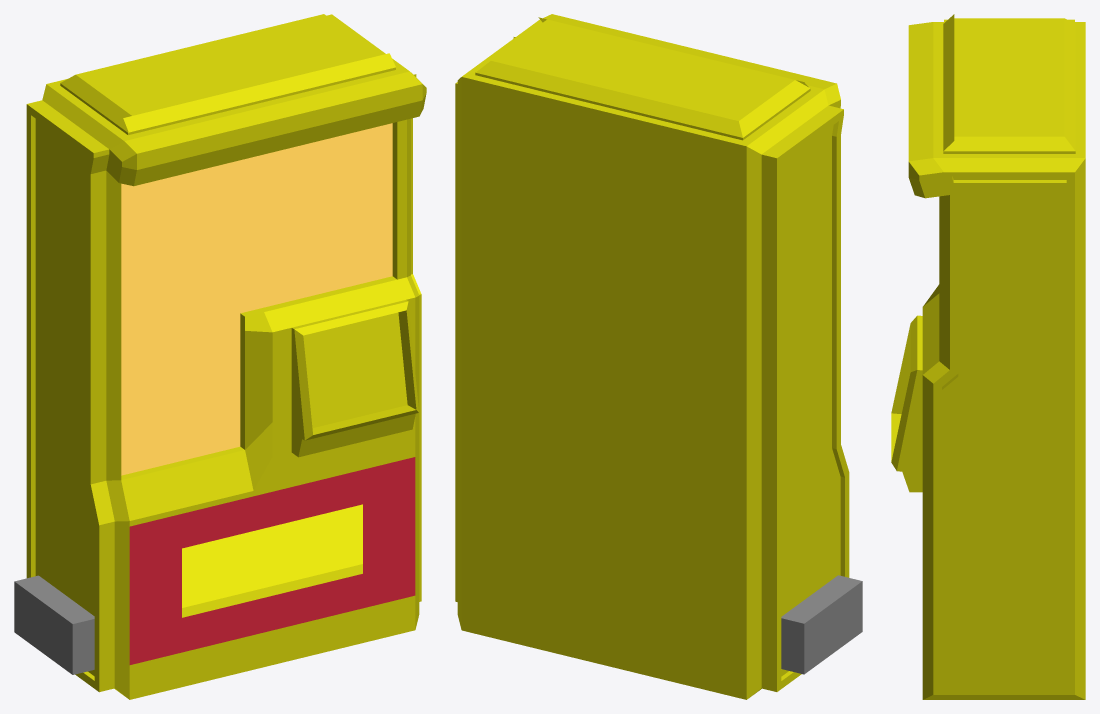
File: vendingMachine.glb
3 views of the same model, side by side, from view 1: azimuth 30°, elevation 25°; view 2: azimuth 150°, elevation 25°; view 3: azimuth 270°, elevation 25° (orthographic). The views are drawn at different scales.
Visible parts, largest first — view 1: vendingBody, screen; view 2: vendingBody; view 3: vendingBody.
Part boxes in pixels (left/top/right/bottom): vendingBody: left=14, top=14, right=426, bottom=699; screen: left=121, top=123, right=392, bottom=475; vendingBody: left=455, top=14, right=862, bottom=699; vendingBody: left=891, top=14, right=1085, bottom=699.
Bounding box in the file's own units: 4.18 × 6.54 × 2.08.
